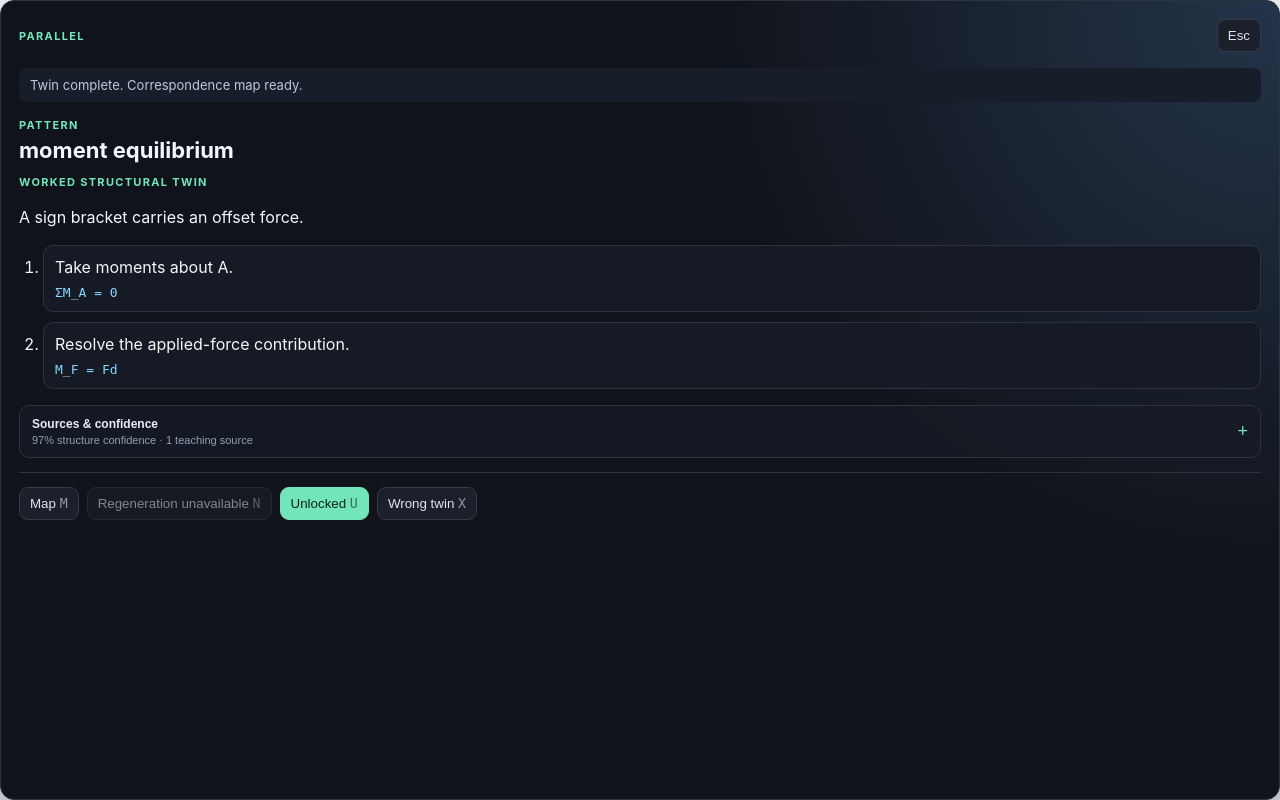
Sidecar › keeps teaching sources collapsed, then reveals title and domain without navigation
This screenshot has width=1280, height=800.
Expected: the text "Engineering Statics — Moments" is not shown
Click the button "Sources & confidence": (95, 424) [20, 406, 1260, 457]
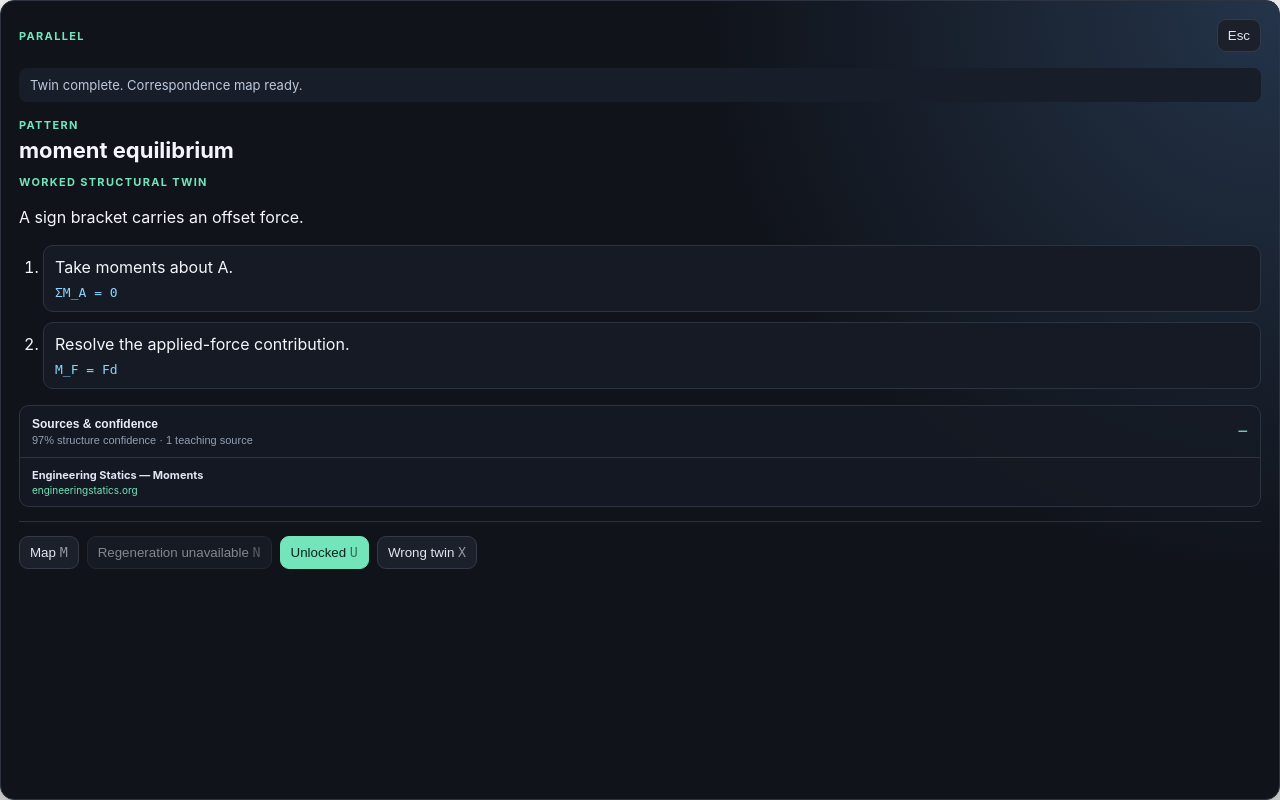
Now the button "Sources & confidence" is expanded, box [20, 406, 1260, 457]
Now the text "Engineering Statics — Moments" is shown, box [32, 468, 203, 482]
Now the text "engineeringstatics.org" is shown, box [32, 484, 138, 496]
